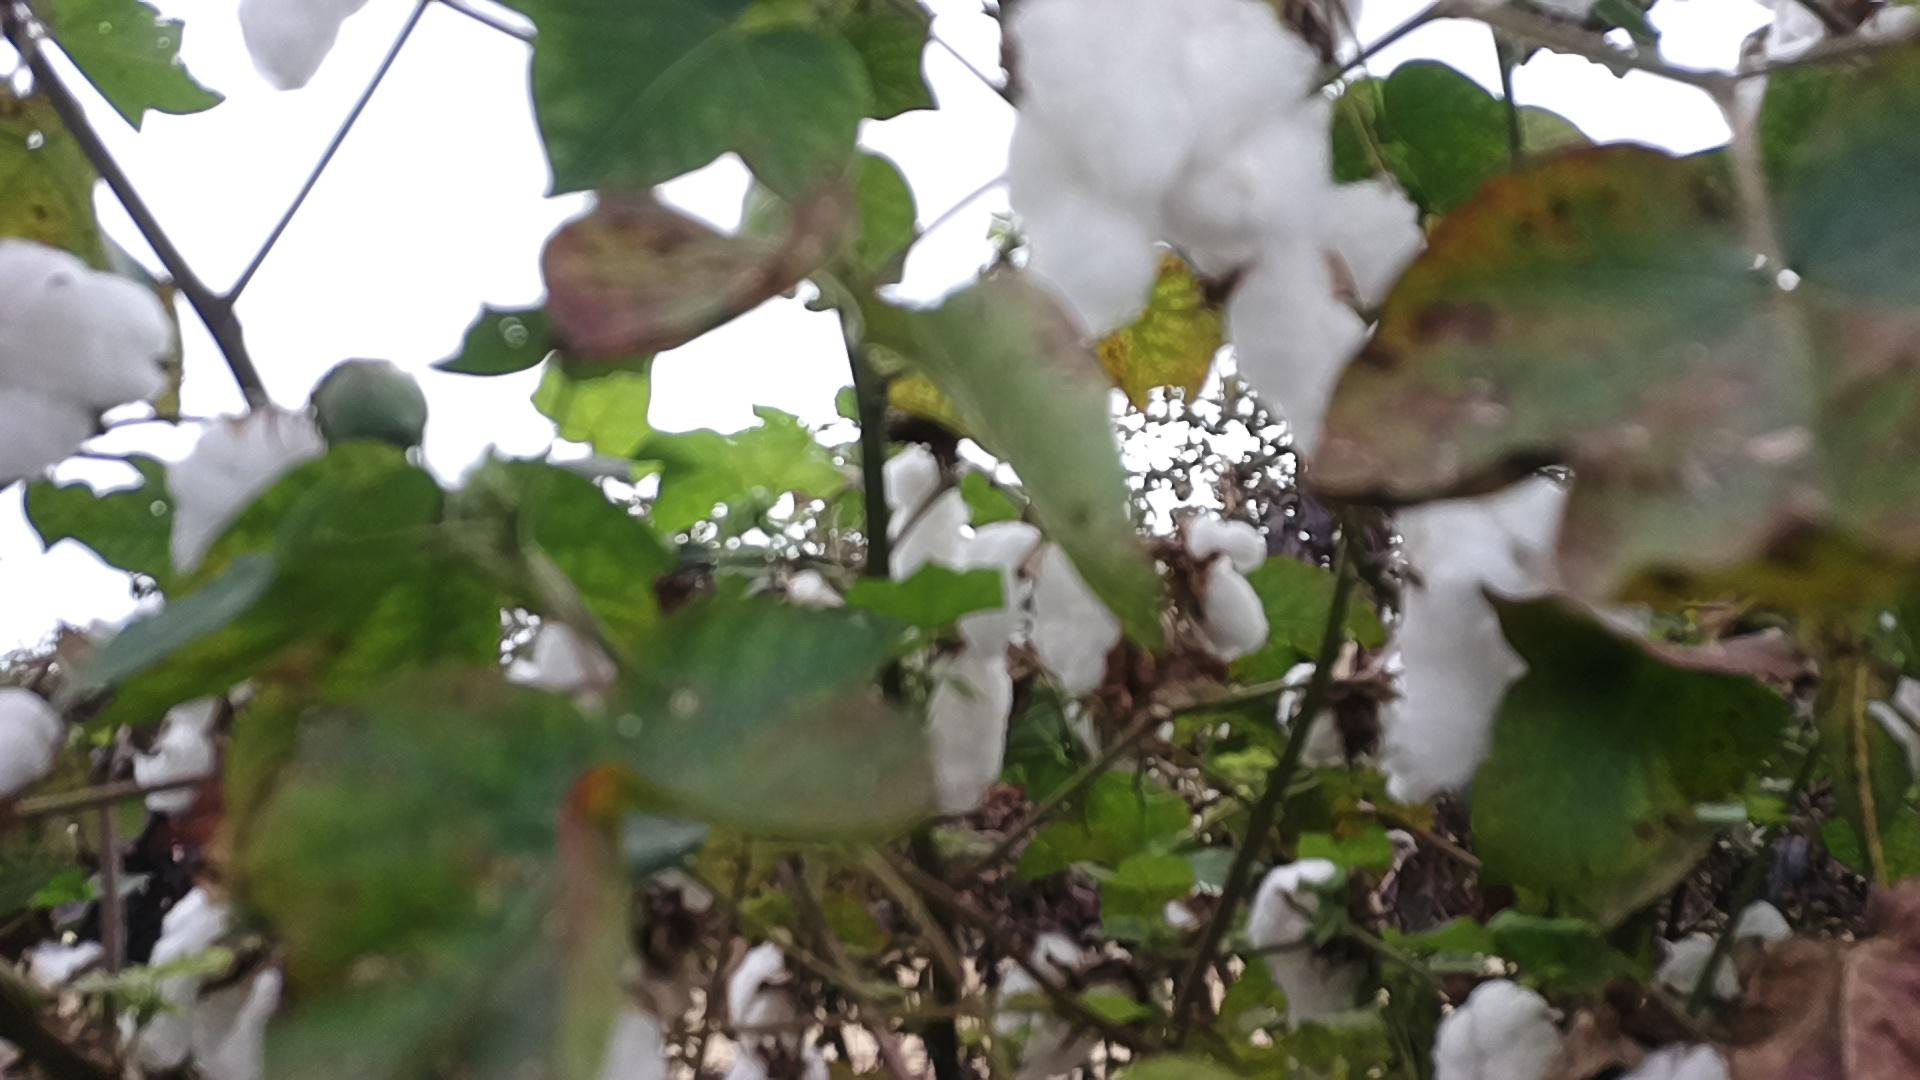cotton_ready: (1011, 0, 1375, 454), (1382, 476, 1648, 807), (928, 526, 1118, 812), (0, 240, 167, 485), (140, 890, 293, 1080), (171, 415, 331, 579), (1250, 858, 1378, 1023), (992, 940, 1108, 1079), (512, 622, 633, 748), (512, 988, 675, 1080), (720, 945, 831, 1080), (1321, 175, 1428, 307), (1660, 906, 1793, 1010), (129, 678, 218, 815), (1437, 985, 1560, 1080), (1188, 516, 1270, 657), (28, 938, 135, 1044), (886, 448, 968, 587), (236, 0, 361, 88), (0, 694, 61, 789), (1622, 1043, 1738, 1080)
